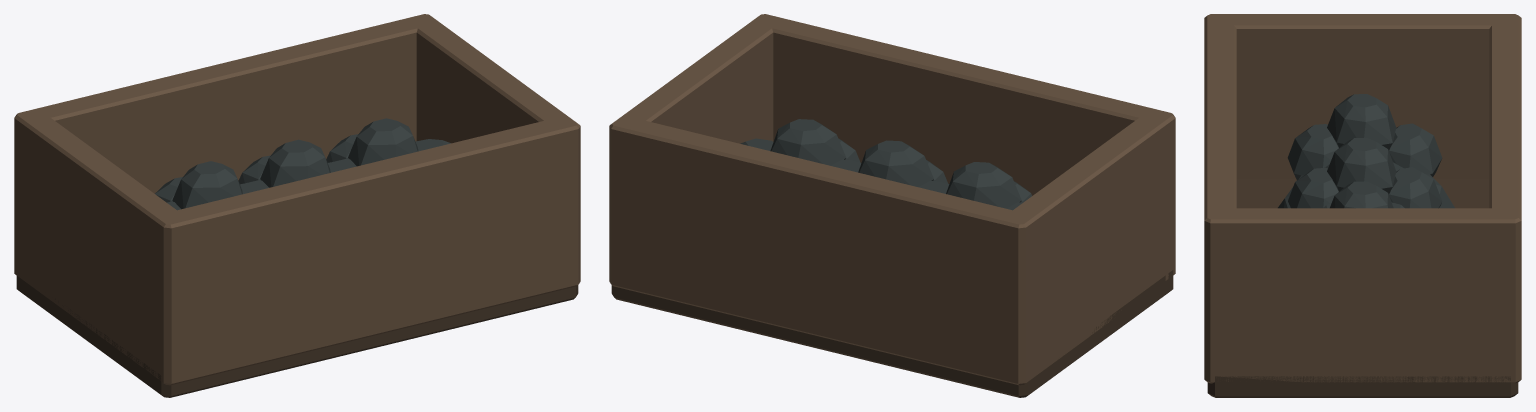
Rendered from coal-bin.glb.
3 renders of one model, left to right at view 1: azimuth 30°, elevation 25°; view 2: azimuth 150°, elevation 25°; view 3: azimuth 270°, elevation 25°, orthographic. The views are drawn at different scales.
Parts seen in each view (by area): view 1: coal-bin__body; view 2: coal-bin__body; view 3: coal-bin__body.
Boxes of the visible parts, x1,y1,x2,y2 form: coal-bin__body: [14, 14, 580, 397]; coal-bin__body: [609, 14, 1175, 397]; coal-bin__body: [1204, 14, 1521, 397].
Size of the model in its own units: 0.76 by 0.305 by 0.49.
